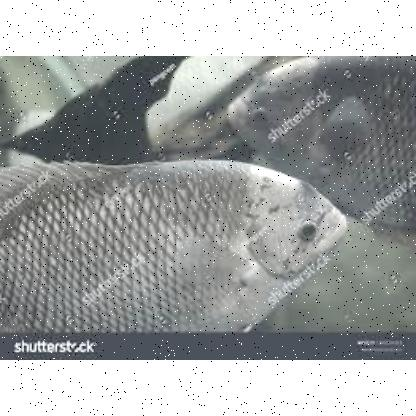gurame: (0, 155, 350, 333), (223, 55, 415, 231)
